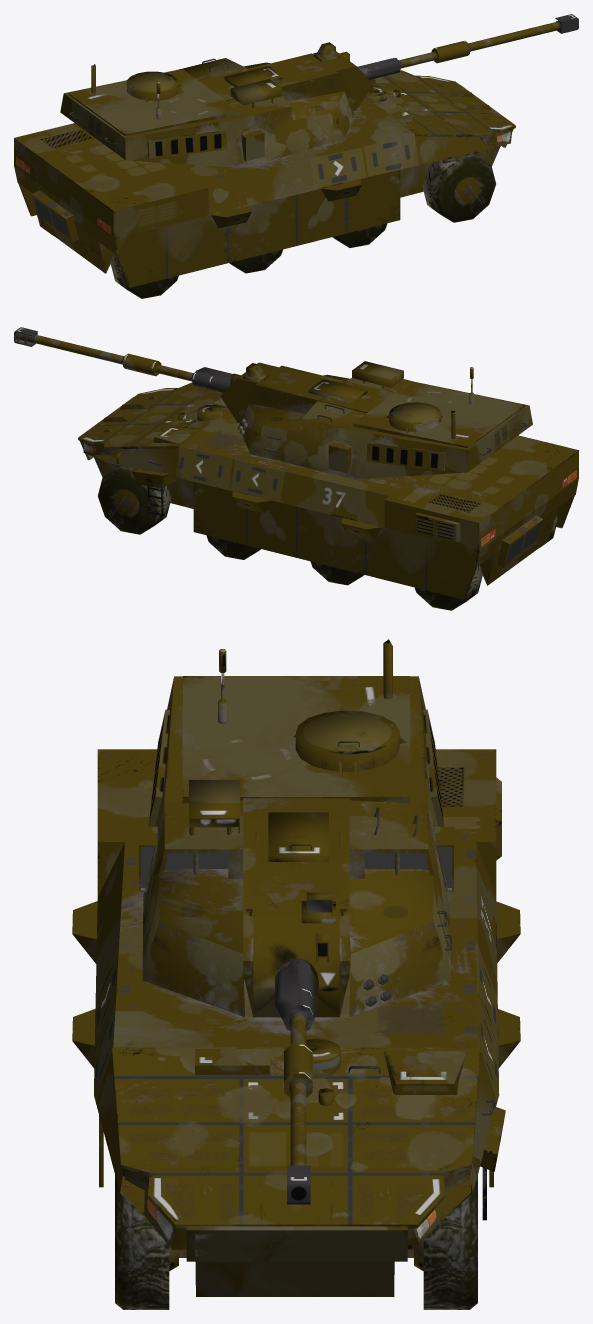
File: tank_txt.fbx
3 renders of one model, top to bottom at view 1: azimuth 30°, elevation 25°; view 2: azimuth 150°, elevation 25°; view 3: azimuth 270°, elevation 25°, orthographic. The views are drawn at different scales.
Parts seen in each view (by area): view 1: bot_low; view 2: bot_low; view 3: bot_low.
Boxes of the visible parts, left/top/right/bottom form: bot_low: left=14, top=14, right=578, bottom=298; bot_low: left=14, top=327, right=578, bottom=610; bot_low: left=72, top=639, right=520, bottom=1309.
Bounding box in the file's own units: 1298 × 452 × 486.
1 material, 1 textured.
